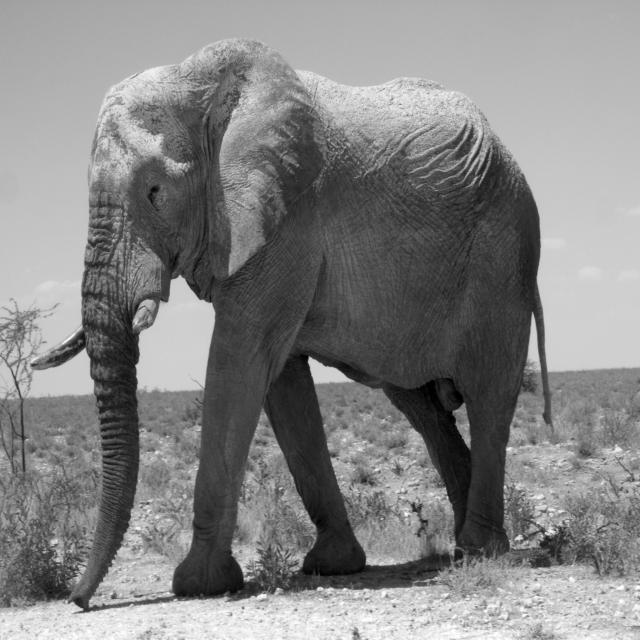Elephant: (30, 36, 554, 612)
